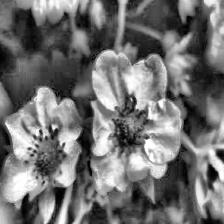Blossom Blight: (22, 125, 69, 189), (108, 94, 154, 157)
